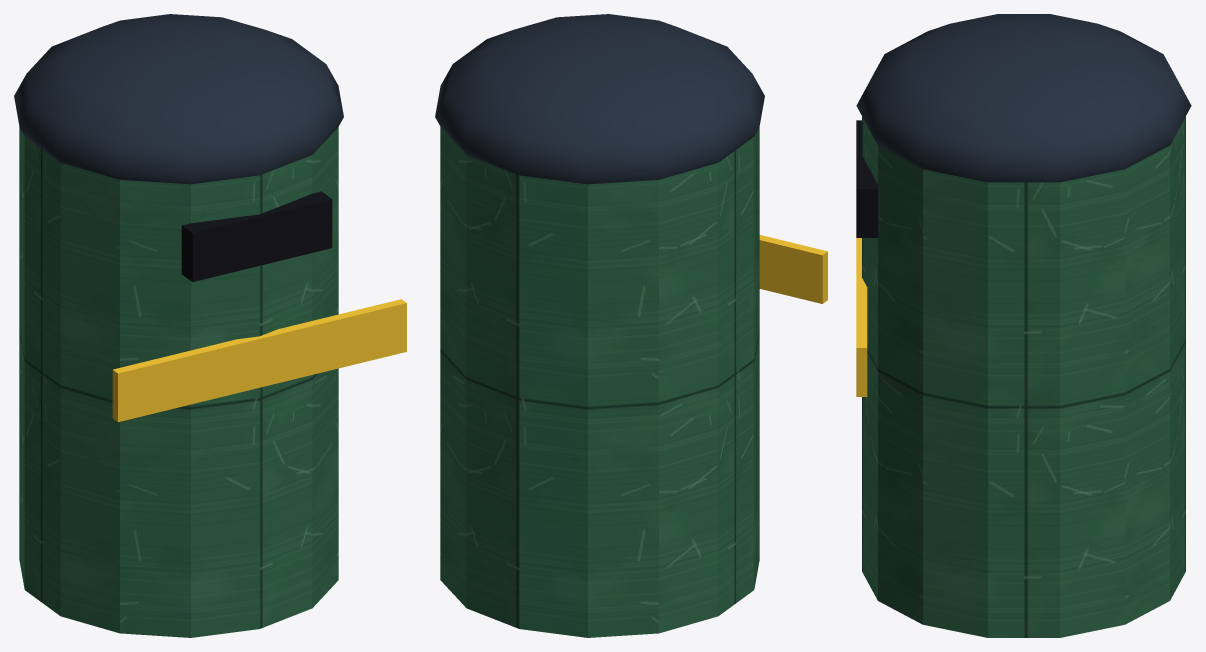
The model's file is trash_can.glb.
3 views of the same model, side by side, from view 1: azimuth 30°, elevation 25°; view 2: azimuth 150°, elevation 25°; view 3: azimuth 270°, elevation 25° (orthographic).
Visible parts, largest first — view 1: trash_can; view 2: trash_can; view 3: trash_can.
Boxes of the visible parts, left/top/right/bottom form: trash_can: left=14, top=14, right=406, bottom=637; trash_can: left=435, top=14, right=827, bottom=637; trash_can: left=856, top=14, right=1191, bottom=637.
Size of the model in its own units: 0.62 by 1.07 by 0.62.
4 materials, 1 textured.
